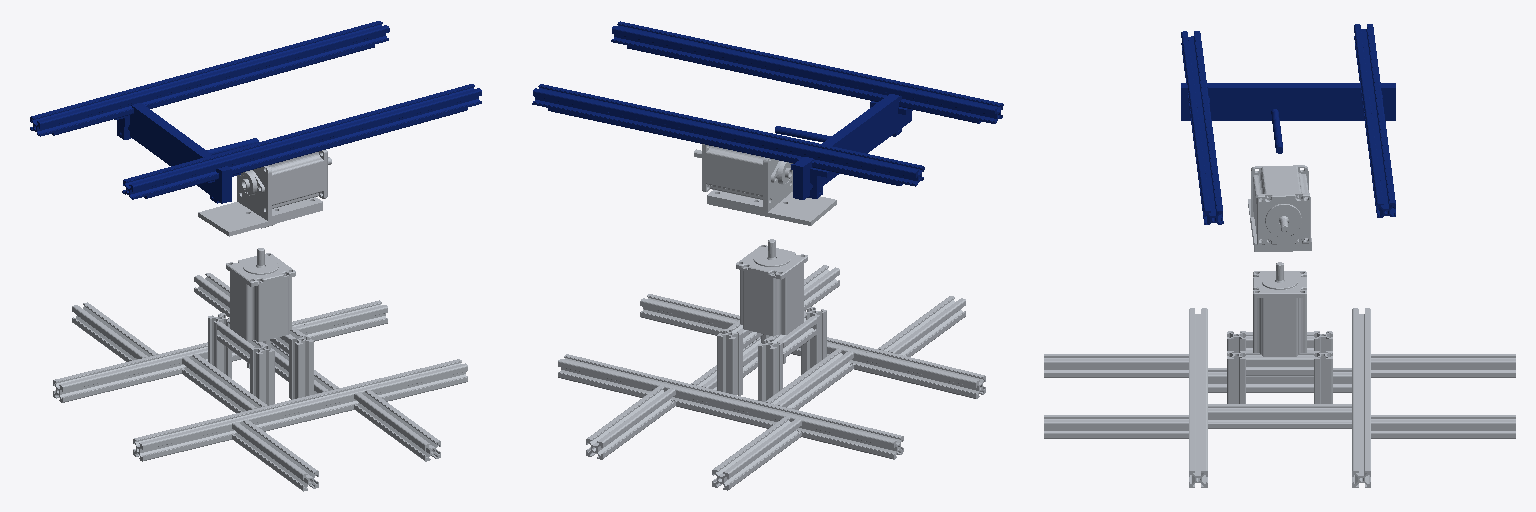
URDF robot description (solar_tracker_v2):
<?xml version="1.0"?>
<robot name="solar_tracker_v2">
  <material name="alu"><color rgba="0.75 0.77 0.8 1"/></material>
  <material name="panel"><color rgba="0.1 0.2 0.5 0.8"/></material>
  <link name="world"/>
  <joint name="world_joint" type="fixed"><parent link="world"/><child link="base_link"/></joint>
  <link name="base_link"><visual><geometry><mesh filename="package://solar_tracker_v2/meshes/base.stl"/></geometry><material name="alu"/></visual>
    <inertial><origin xyz="-0.00056 0.00215 0.12479"/><mass value="2.5661"/><inertia ixx="0.0128003" iyy="0.0160353" izz="0.00974364" ixy="5.83167e-05" ixz="-9.72938e-05" iyz="0.000228433"/></inertial></link>
  <link name="azimuth_link"><visual><geometry><mesh filename="package://solar_tracker_v2/meshes/azimuth_link.stl"/></geometry><material name="alu"/></visual>
    <inertial><origin xyz="-0.00024 -0.00007 0.03668"/><mass value="1.6020"/><inertia ixx="0.00135993" iyy="0.0024542" izz="0.00240587" ixy="7.40265e-07" ixz="-0.000152275" iyz="-3.73284e-08"/></inertial></link>
  <link name="elevation_link"><visual><geometry><mesh filename="package://solar_tracker_v2/meshes/elevation_link.stl"/></geometry><material name="panel"/></visual>
    <inertial><origin xyz="0.01262 0.00023 0.03282"/><mass value="3.7821"/><inertia ixx="0.0546584" iyy="0.107684" izz="0.160004" ixy="3.415e-05" ixz="0.00054677" iyz="0.000369355"/></inertial></link>
  <joint name="azimuth_joint" type="revolute"><parent link="base_link"/><child link="azimuth_link"/>
    <origin xyz="0 0 0.2063"/><axis xyz="0 0 -1"/><dynamics damping="0.2" friction="0.05"/>
    <limit lower="-3.2289" upper="3.2289" effort="1.500" velocity="1"/></joint>
  <joint name="elevation_joint" type="revolute"><parent link="azimuth_link"/><child link="elevation_link"/>
    <origin xyz="0 0 0.0858"/><axis xyz="1 0 0"/><dynamics damping="0.2" friction="0.05"/>
    <limit lower="-0.7854" upper="0.7854" effort="7.500" velocity="1"/></joint>
  <gazebo>
    <plugin filename="gz-sim-joint-state-publisher-system" name="gz::sim::systems::JointStatePublisher"/>
    <plugin filename="gz-sim-joint-position-controller-system" name="gz::sim::systems::JointPositionController">
      <joint_name>azimuth_joint</joint_name><p_gain>303.80</p_gain><i_gain>0</i_gain><d_gain>0.000</d_gain><cmd_max>1.500</cmd_max><cmd_min>-1.500</cmd_min>
    </plugin>
    <plugin filename="gz-sim-joint-position-controller-system" name="gz::sim::systems::JointPositionController">
      <joint_name>elevation_joint</joint_name><p_gain>160.99</p_gain><i_gain>0</i_gain><d_gain>0.000</d_gain><cmd_max>7.500</cmd_max><cmd_min>-7.500</cmd_min>
    </plugin>
  </gazebo>
</robot>

--- Facts derived from the render (not from the file) ---
The picture shows the robot from 3 angles, left to right: view 1: azimuth 30°, elevation 25°; view 2: azimuth 150°, elevation 25°; view 3: azimuth 270°, elevation 25°; orthographic projection.
Model solar_tracker_v2 with 4 links and 3 joints (2 revolute, 1 fixed), rooted at world, posed all joints at 0.
Links seen in each view (by area): view 1: base_link, elevation_link, azimuth_link; view 2: base_link, elevation_link, azimuth_link; view 3: base_link, elevation_link, azimuth_link.
Boxes of the visible links, x1,y1,x2,y2 form: base_link: (53,248,467,491); elevation_link: (30,21,481,203); azimuth_link: (198,150,331,236); base_link: (558,239,985,490); elevation_link: (532,21,1003,199); azimuth_link: (694,123,836,225); base_link: (1044,262,1515,487); elevation_link: (1181,24,1395,224); azimuth_link: (1248,165,1311,251).
Size in the robot's own frame: 0.4532 by 0.49 by 0.3343 metres.
Meshes: 3 distinct files referenced, 3 mesh visuals loaded (3 binary STL).
